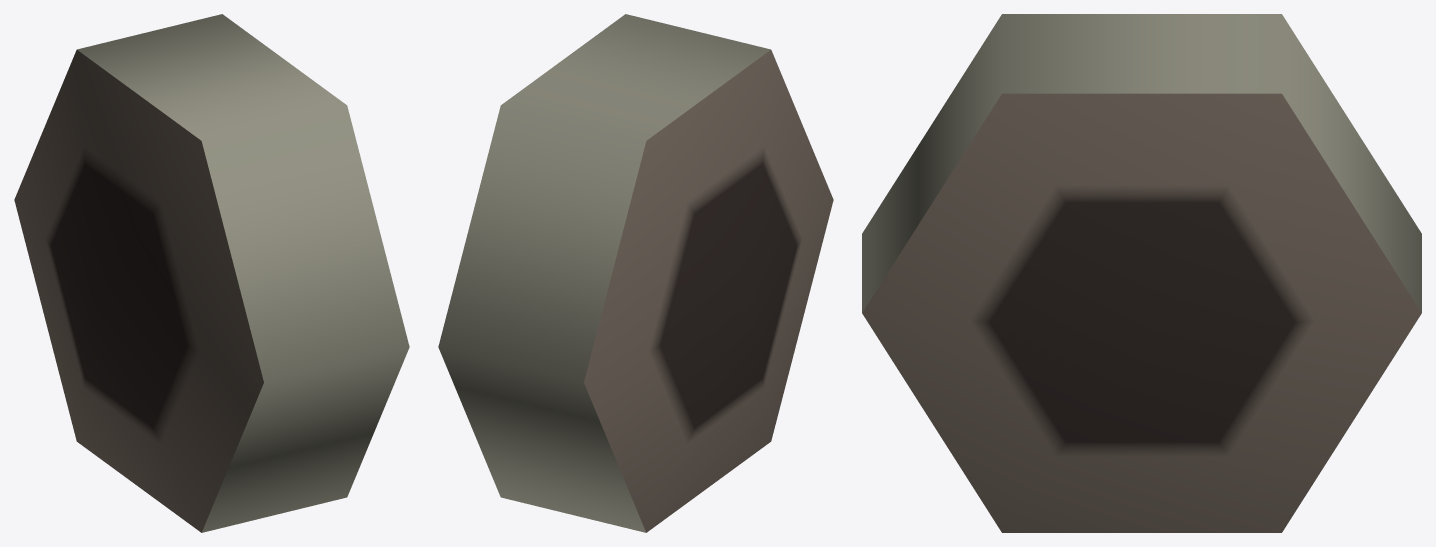
Rendered from pipeset1_pipe1ring.fbx.
3 renders of one model, left to right at view 1: azimuth 30°, elevation 25°; view 2: azimuth 150°, elevation 25°; view 3: azimuth 270°, elevation 25°, orthographic. The views are drawn at different scales.
Parts seen in each view (by area): view 1: pipeset1_pipe1ring; view 2: pipeset1_pipe1ring; view 3: pipeset1_pipe1ring.
Part boxes in pixels (<box>): pipeset1_pipe1ring: <box>14,14,409,532</box>; pipeset1_pipe1ring: <box>438,14,833,532</box>; pipeset1_pipe1ring: <box>862,14,1421,532</box>.
Size of the model in its own units: 30.85 by 49.41 by 57.05.
